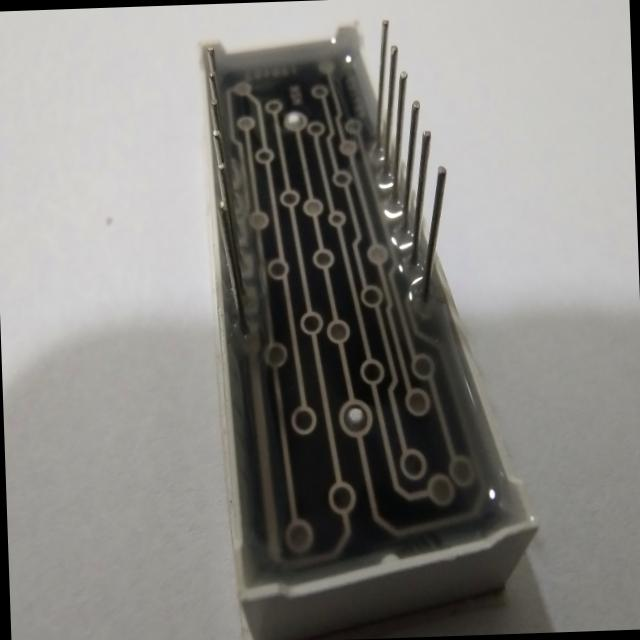7_segments_4_digits: (185, 3, 549, 640)
